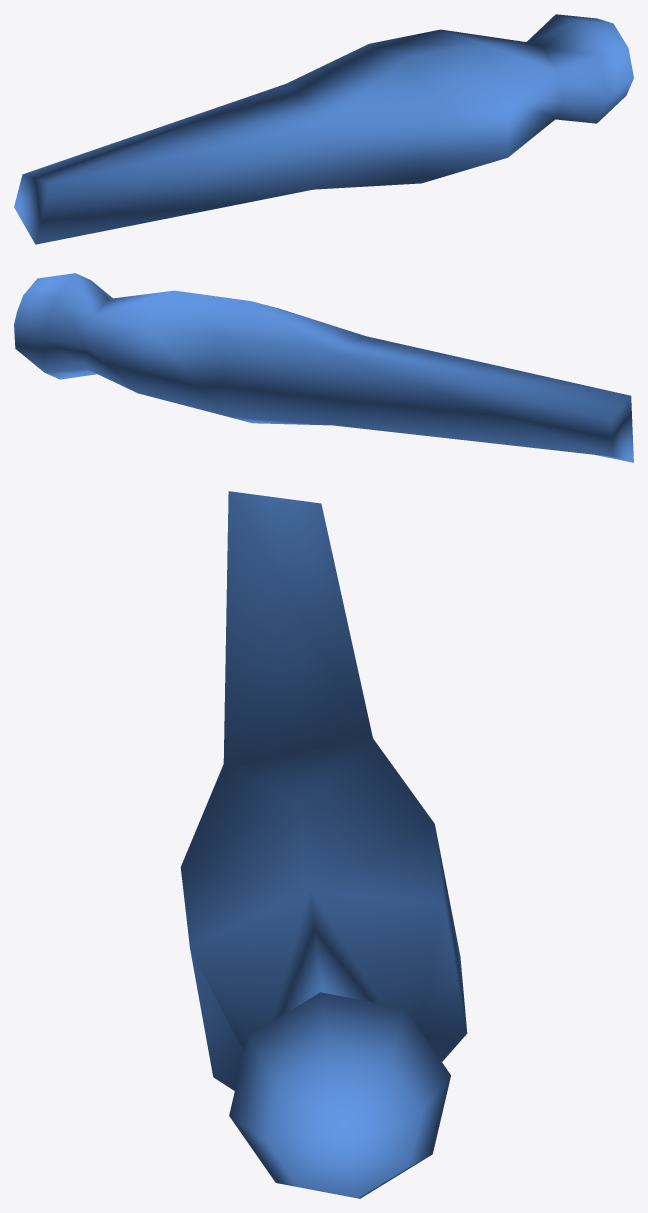
Rendered from forearm.obj.
3 renders of one model, top to bottom at view 1: azimuth 30°, elevation 25°; view 2: azimuth 150°, elevation 25°; view 3: azimuth 270°, elevation 25°, orthographic. The views are drawn at different scales.
Visible parts, largest first — view 1: forearm; view 2: forearm; view 3: forearm.
Boxes of the visible parts, x1,y1,x2,y2 form: forearm: (14,14,633,244); forearm: (14,273,633,462); forearm: (180,491,467,1198).
Size of the model in its own units: 7.36 by 1.33 by 1.54.
